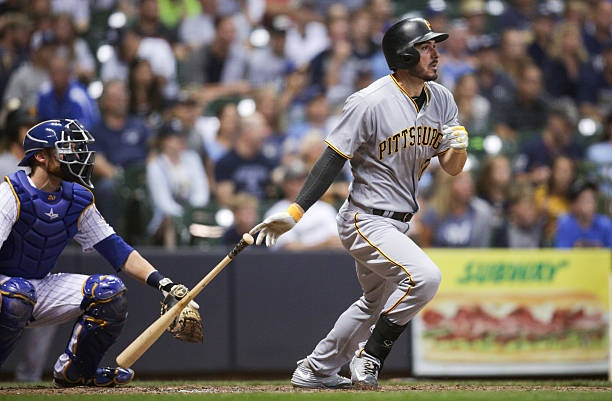bita: (112, 235, 263, 370)
